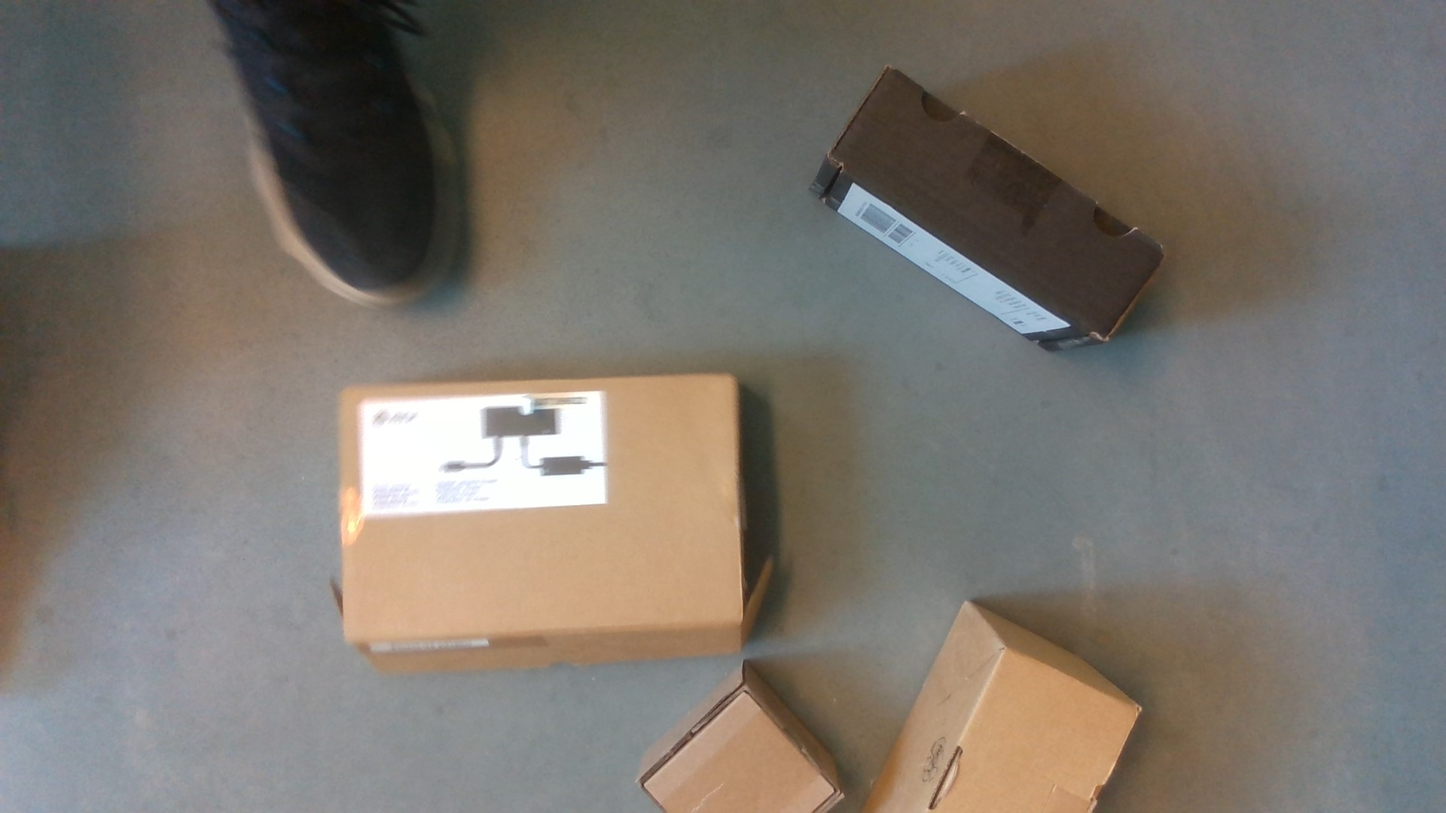Parcel: (338, 374, 744, 645), (826, 64, 1165, 341), (923, 649, 1140, 813), (638, 688, 843, 813), (968, 604, 1140, 706), (744, 662, 840, 795)
